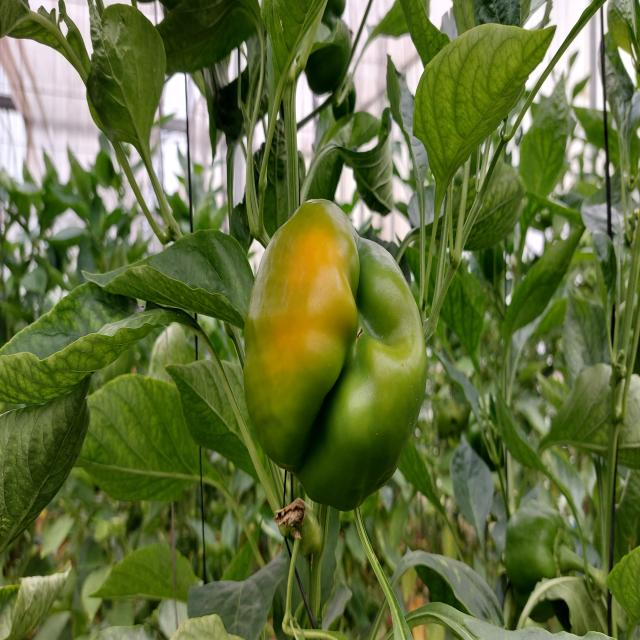GreenishYellow--Can-be-Harvested: (233, 162, 447, 519)
